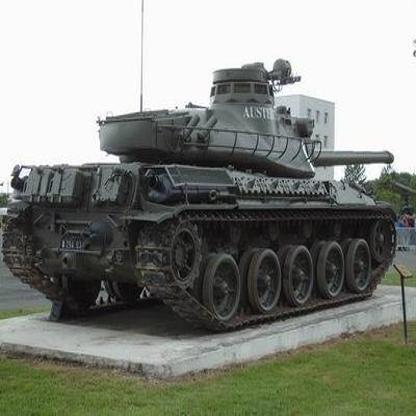Tank: (2, 64, 404, 329)
